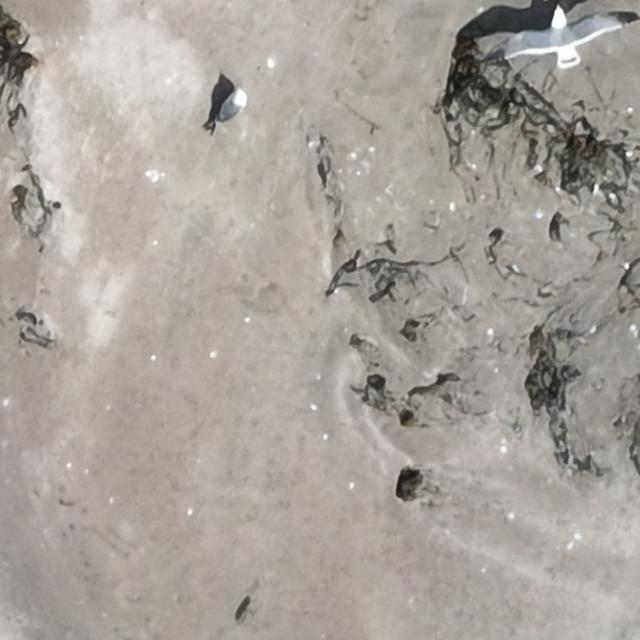F: (497, 6, 631, 68)
umineko: (219, 92, 244, 123)
